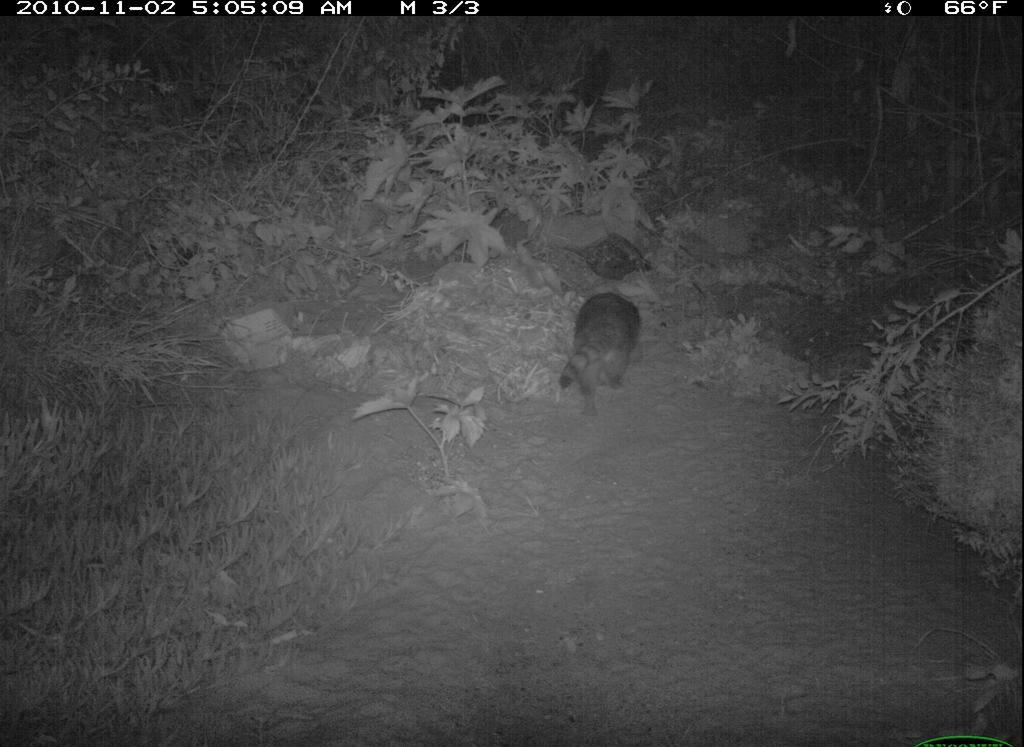raccoon: (551, 287, 653, 414)
